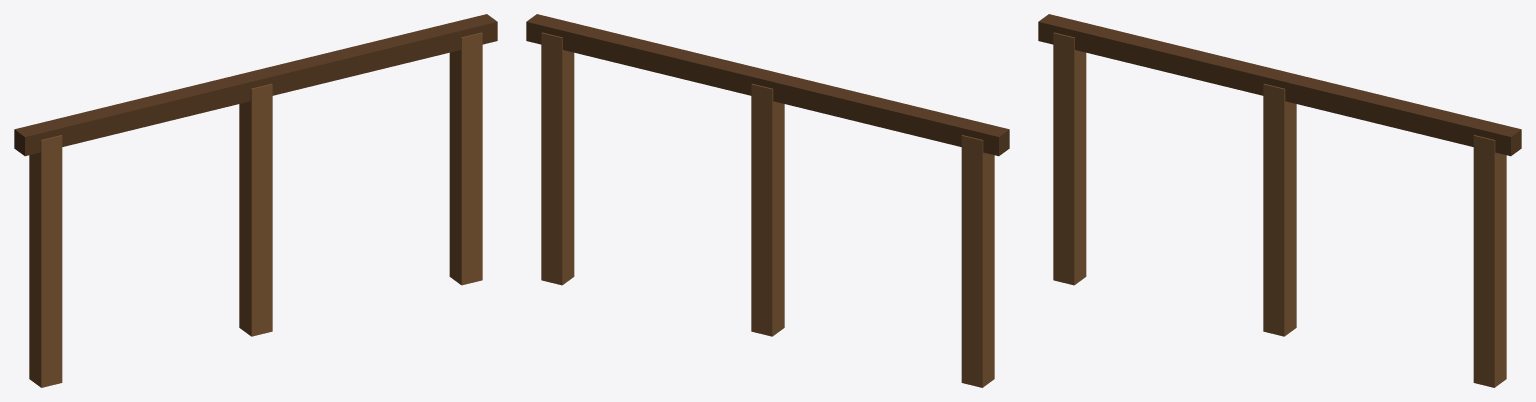
The model's file is fld_netrack.glb.
3 renders of one model, left to right at view 1: azimuth 30°, elevation 25°; view 2: azimuth 150°, elevation 25°; view 3: azimuth 330°, elevation 25°, orthographic.
Parts seen in each view (by area): view 1: fld_netrack; view 2: fld_netrack; view 3: fld_netrack.
Boxes of the visible parts, box(x1,y1,x2,y2) form: fld_netrack: box(14, 14, 497, 387); fld_netrack: box(526, 14, 1009, 387); fld_netrack: box(1038, 14, 1521, 387).
Bounding box in the file's own units: 0.36 × 0.185 × 0.016.
